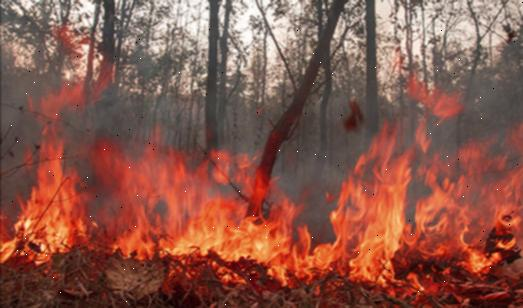fire: (0, 114, 523, 292)
